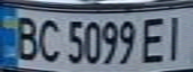0: (81, 18, 103, 65)
5: (63, 17, 84, 65)
9: (115, 16, 142, 66), (100, 17, 121, 66)
B: (9, 12, 42, 62)
C: (33, 15, 63, 63)
E: (139, 13, 172, 64)
I: (160, 11, 193, 63)
